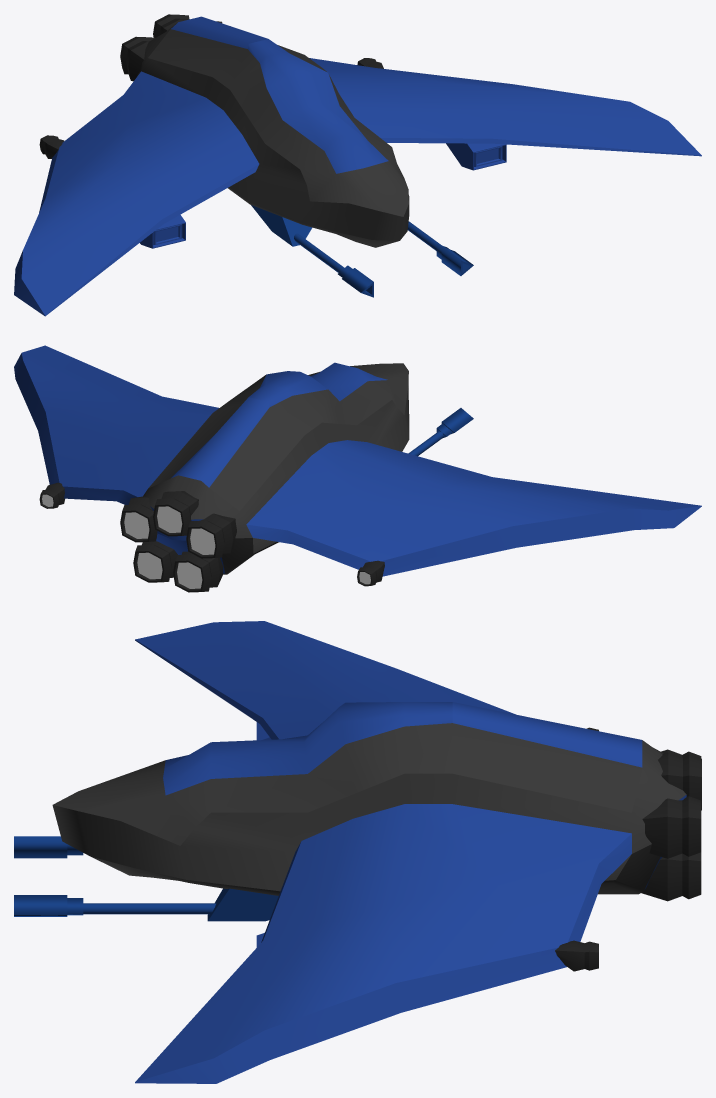
The model's file is Dogfighter_Rebel.FBX.
3 views of the same model, one above another, from view 1: azimuth 30°, elevation 25°; view 2: azimuth 150°, elevation 25°; view 3: azimuth 270°, elevation 25° (orthographic). The views are drawn at different scales.
Visible parts, largest first — view 1: Box001; view 2: Box001; view 3: Box001.
Boxes of the visible parts, x1,y1,x2,y2 form: Box001: (14,14,701,316); Box001: (14,345,701,592); Box001: (14,621,701,1083).
Size of the model in its own units: 288 by 54.36 by 188.
